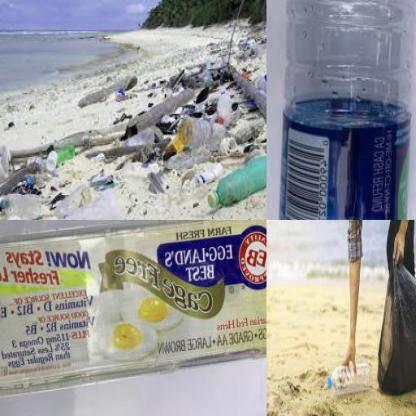Plastic: (278, 0, 416, 221), (204, 152, 269, 210), (323, 360, 370, 391)
